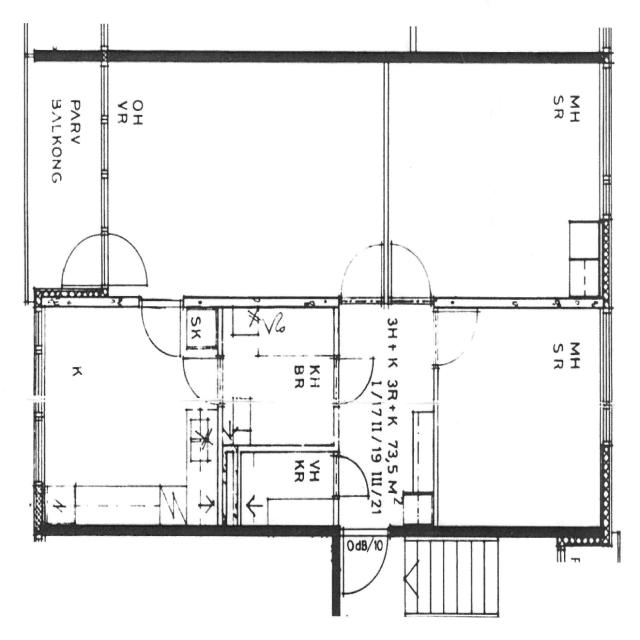door: (340, 302, 437, 521), (333, 236, 388, 308), (102, 222, 154, 296), (430, 297, 480, 369), (56, 224, 108, 291), (340, 525, 391, 593), (386, 238, 435, 306), (140, 296, 186, 360), (331, 352, 376, 407), (180, 348, 222, 404), (330, 454, 371, 501)
window: (588, 56, 620, 219), (92, 56, 117, 230), (592, 307, 620, 428), (449, 290, 569, 318), (28, 307, 49, 410), (27, 400, 50, 490), (96, 129, 116, 232), (93, 54, 116, 132), (594, 395, 618, 448)
zone: (105, 53, 386, 297), (387, 55, 608, 302), (32, 303, 212, 532), (436, 302, 607, 537), (340, 294, 437, 530), (220, 300, 339, 450), (223, 446, 339, 530), (183, 307, 218, 352)
